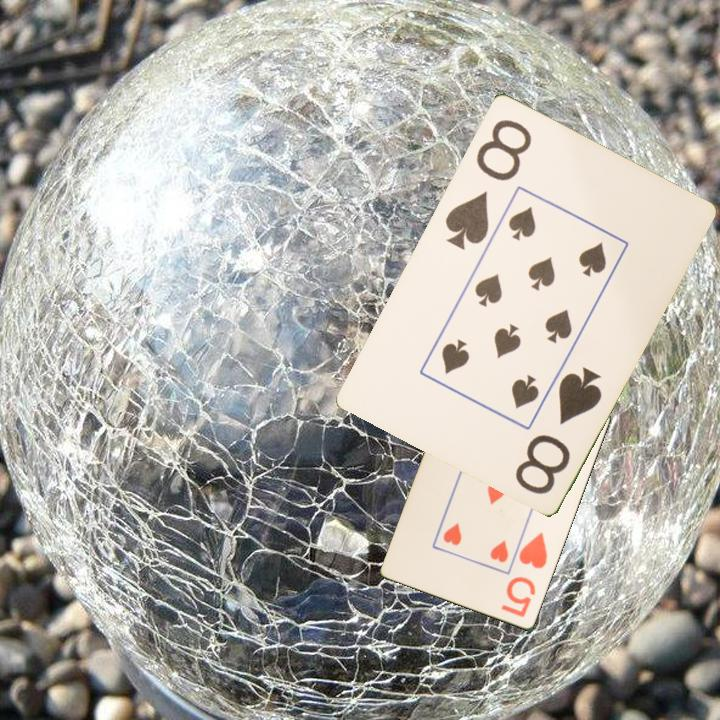5h: (497, 529, 551, 621)
8s: (441, 115, 535, 252), (511, 363, 605, 497)
